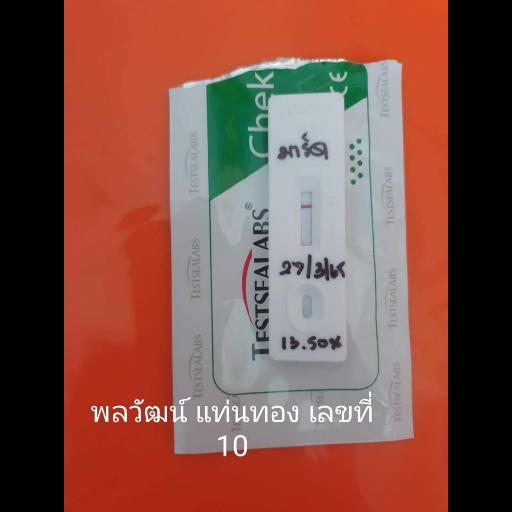Neg: (266, 92, 344, 362)
